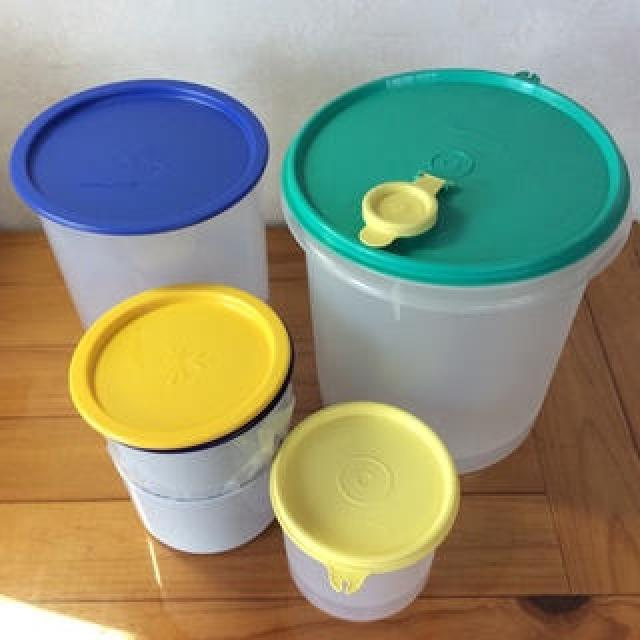plastic: (0, 73, 300, 556), (294, 61, 631, 464), (262, 402, 462, 630)
